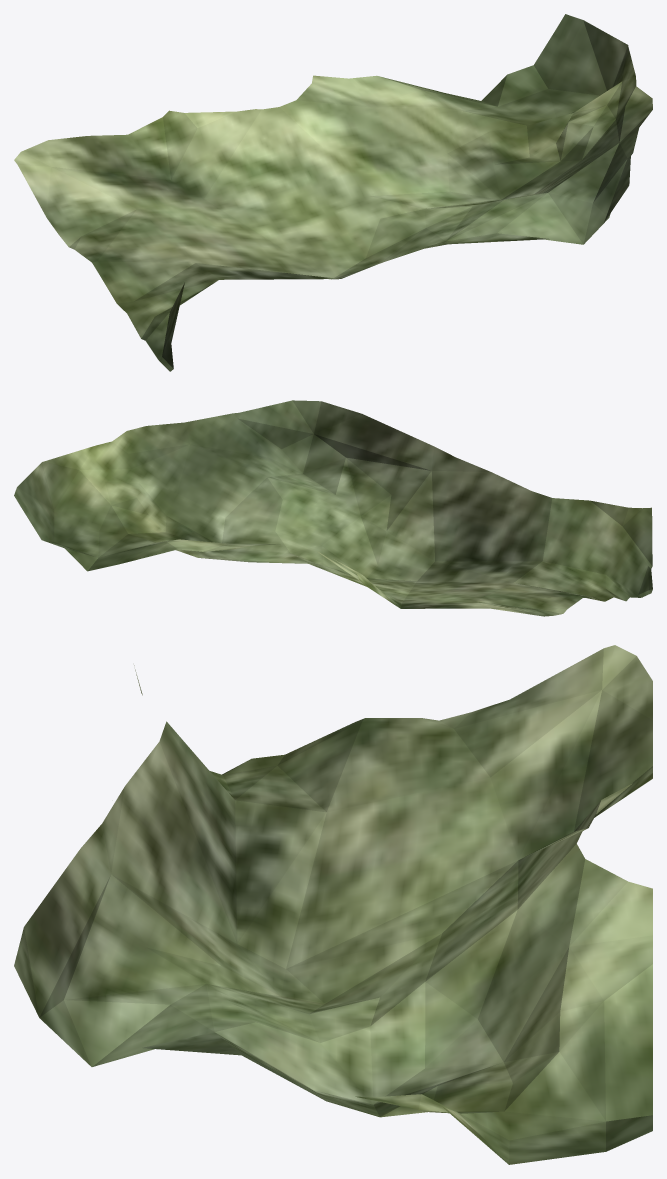
3 views of the same model, one above another, from view 1: azimuth 30°, elevation 25°; view 2: azimuth 150°, elevation 25°; view 3: azimuth 270°, elevation 25° (orthographic). The views are drawn at different scales.
Bounding box in the file's own units: 3.49 × 0.5615 × 2.08.
Materials: 1 (1 with a texture image).
